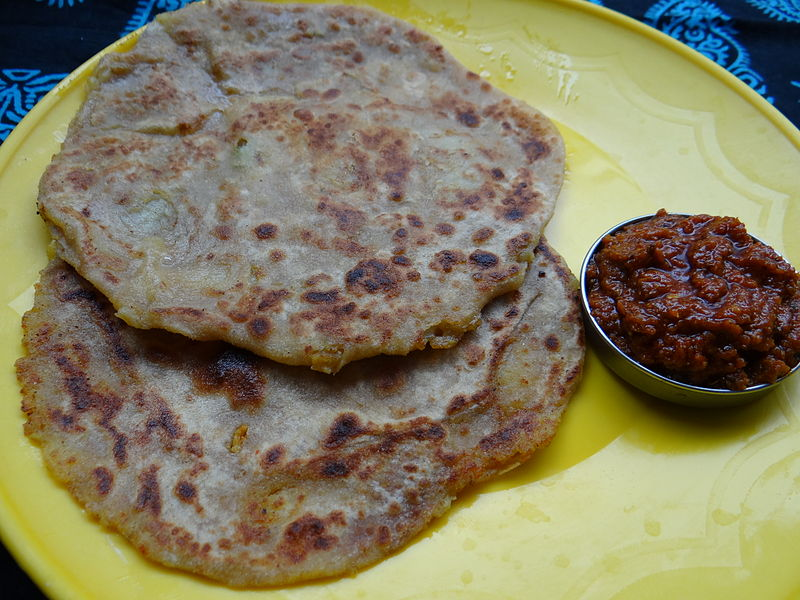aloo_paratha: (21, 2, 581, 584)
